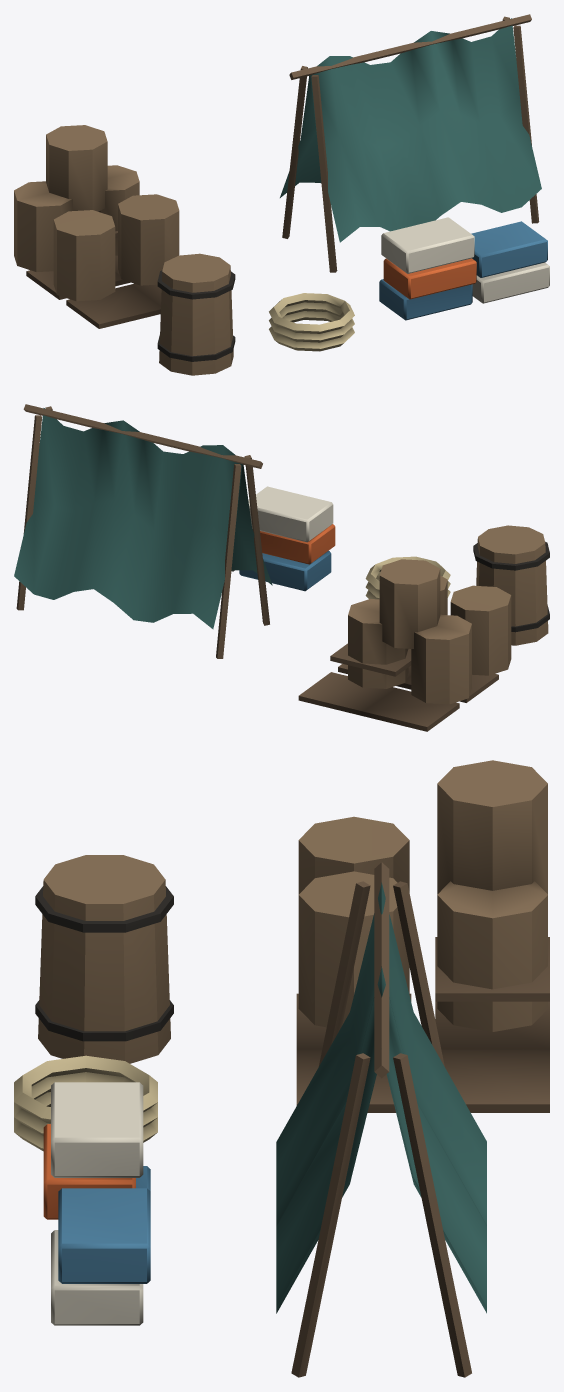
Rendered from dock_clutter.glb.
3 renders of one model, top to bottom at view 1: azimuth 30°, elevation 25°; view 2: azimuth 150°, elevation 25°; view 3: azimuth 270°, elevation 25°, orthographic. The views are drawn at different scales.
Parts seen in each view (by area): view 1: dock_clutter_mesh; view 2: dock_clutter_mesh; view 3: dock_clutter_mesh.
Part boxes in pixels (x1=…): dock_clutter_mesh: x1=14, y1=14, x2=549, y2=375; dock_clutter_mesh: x1=14, y1=404, x2=549, y2=731; dock_clutter_mesh: x1=14, y1=760, x2=549, y2=1377.
Size of the model in its own units: 5.24 by 2.03 by 2.9.
